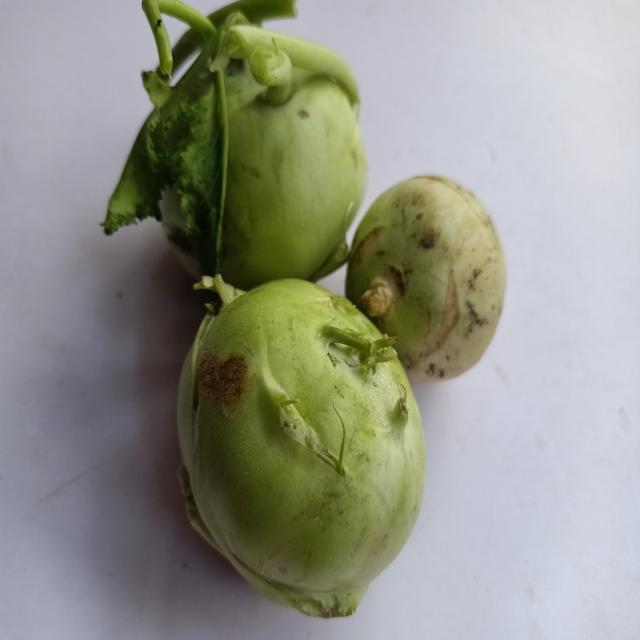Turnip: (174, 269, 434, 629), (94, 3, 378, 284), (341, 171, 519, 386)
